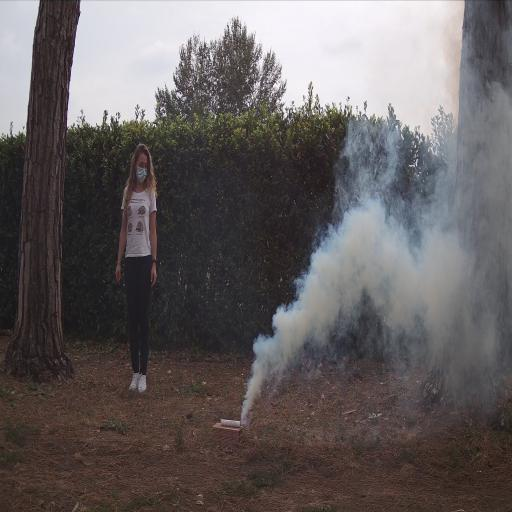leakage: (232, 3, 511, 449)
